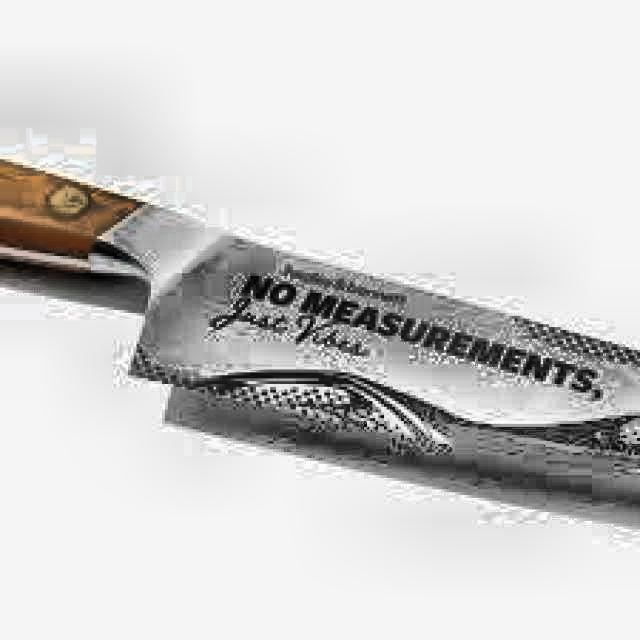knife: (2, 150, 640, 516)
